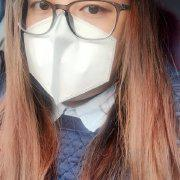OK: (21, 1, 128, 99)
